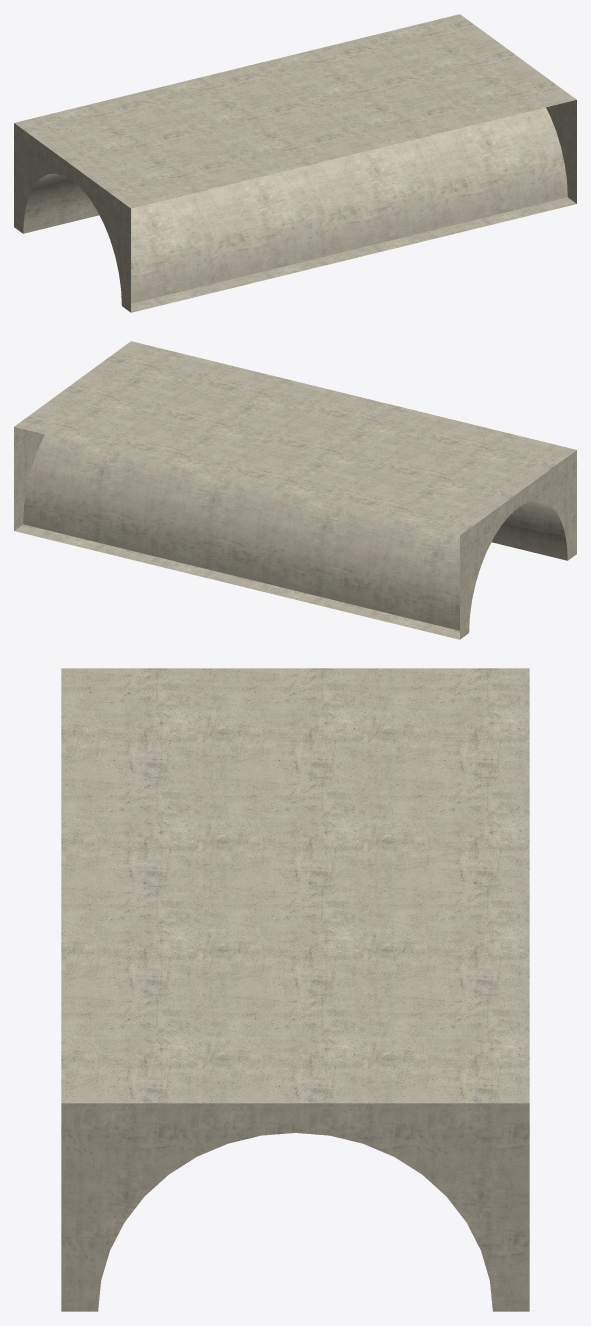
The model's file is BridgeBase8-4L.FBX.
3 views of the same model, one above another, from view 1: azimuth 30°, elevation 25°; view 2: azimuth 150°, elevation 25°; view 3: azimuth 270°, elevation 25° (orthographic). The views are drawn at different scales.
Visible parts, largest first — view 1: BridgeBase8-4L; view 2: BridgeBase8-4L; view 3: BridgeBase8-4L.
Boxes of the visible parts, x1=… form: BridgeBase8-4L: x1=14, y1=14, x2=576, y2=312; BridgeBase8-4L: x1=14, y1=341, x2=576, y2=639; BridgeBase8-4L: x1=61, y1=668, x2=529, y2=1311.
Size of the model in its own units: 28 by 6.25 by 12.73.
